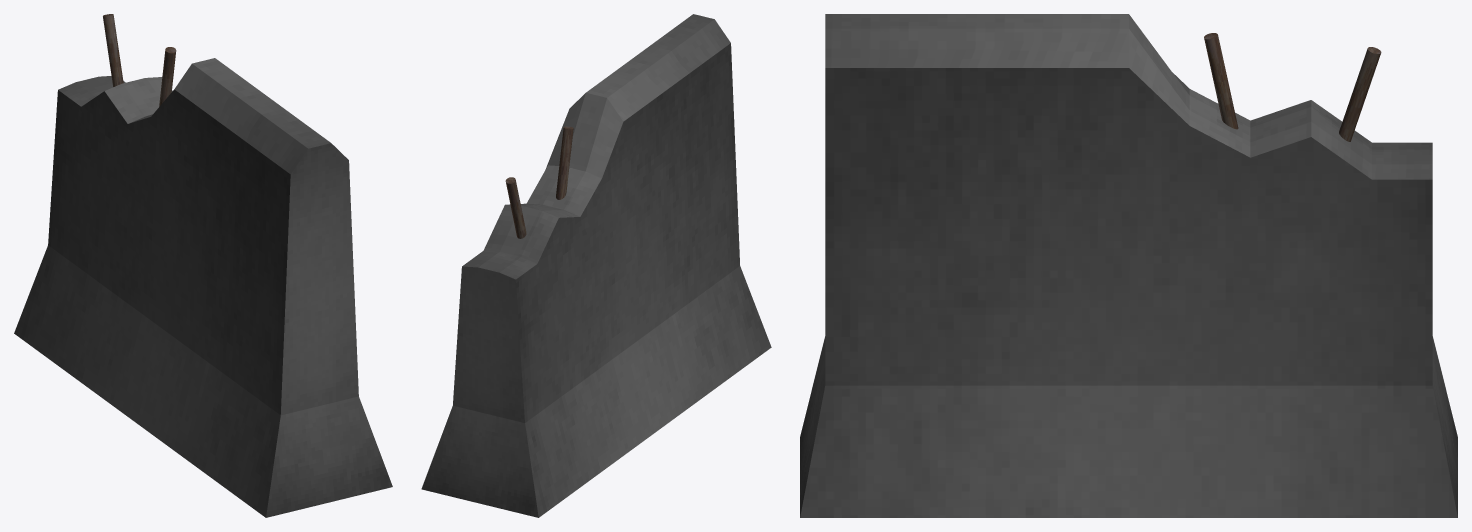
File: wall_broken.fbx
3 views of the same model, side by side, from view 1: azimuth 30°, elevation 25°; view 2: azimuth 150°, elevation 25°; view 3: azimuth 270°, elevation 25° (orthographic). The views are drawn at different scales.
Parts seen in each view (by area): view 1: wall_broken; view 2: wall_broken; view 3: wall_broken.
Boxes of the visible parts, left/top/right/bottom form: wall_broken: left=14, top=14, right=392, bottom=517; wall_broken: left=421, top=14, right=771, bottom=517; wall_broken: left=800, top=14, right=1457, bottom=517.
Bounding box in the file's own units: 200 × 526 × 688.
